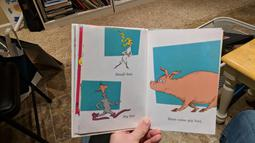text block: (167, 114, 205, 126), (118, 112, 138, 120), (114, 70, 136, 76)
